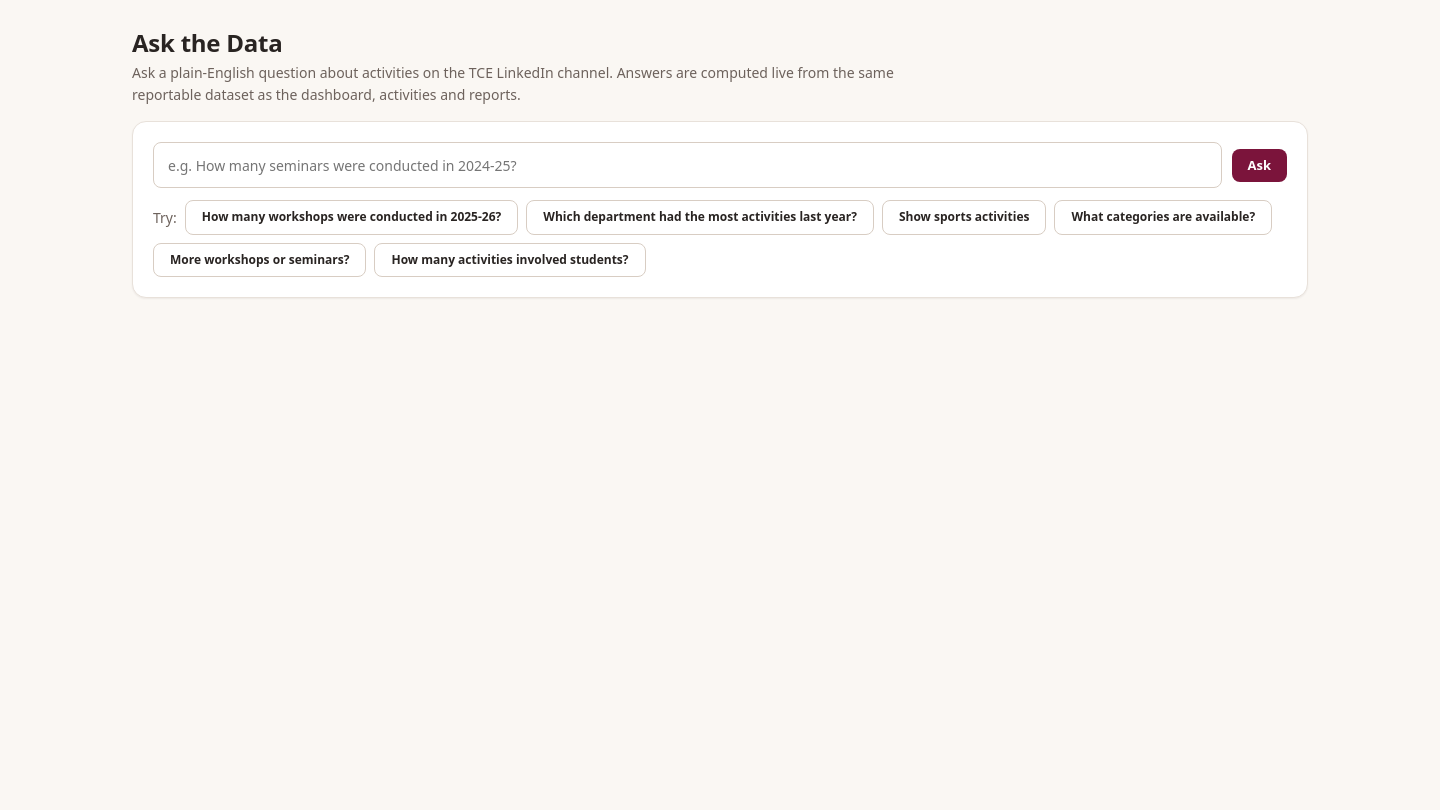
Test case: LinkedinPublicQuery › renders comparison charts and tables for compare questions
Type "More workshops or seminars?" into the field named "Your question" at (687, 165), box [153, 142, 1222, 188]
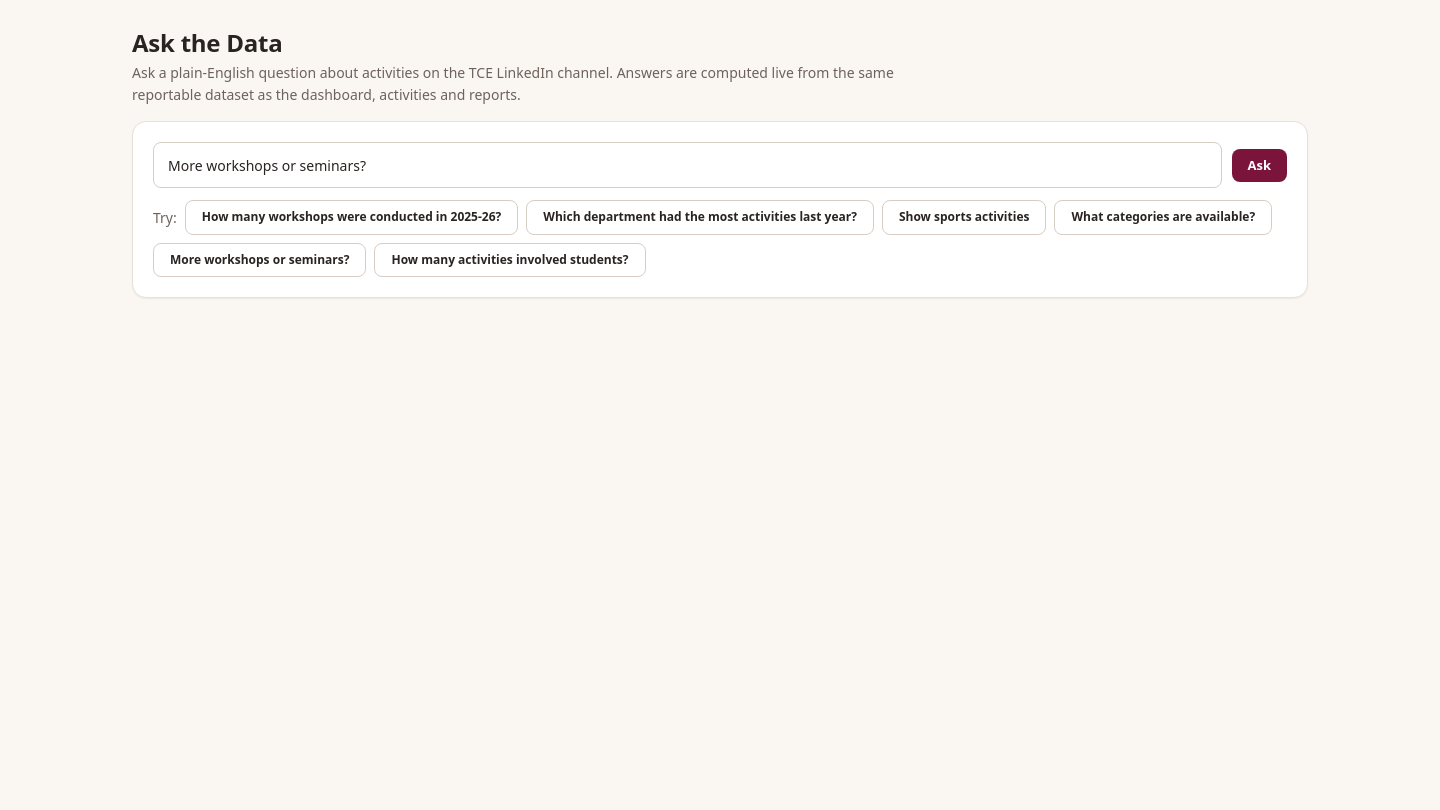
Click the button "Ask" at (1259, 165), box [1232, 149, 1287, 182]
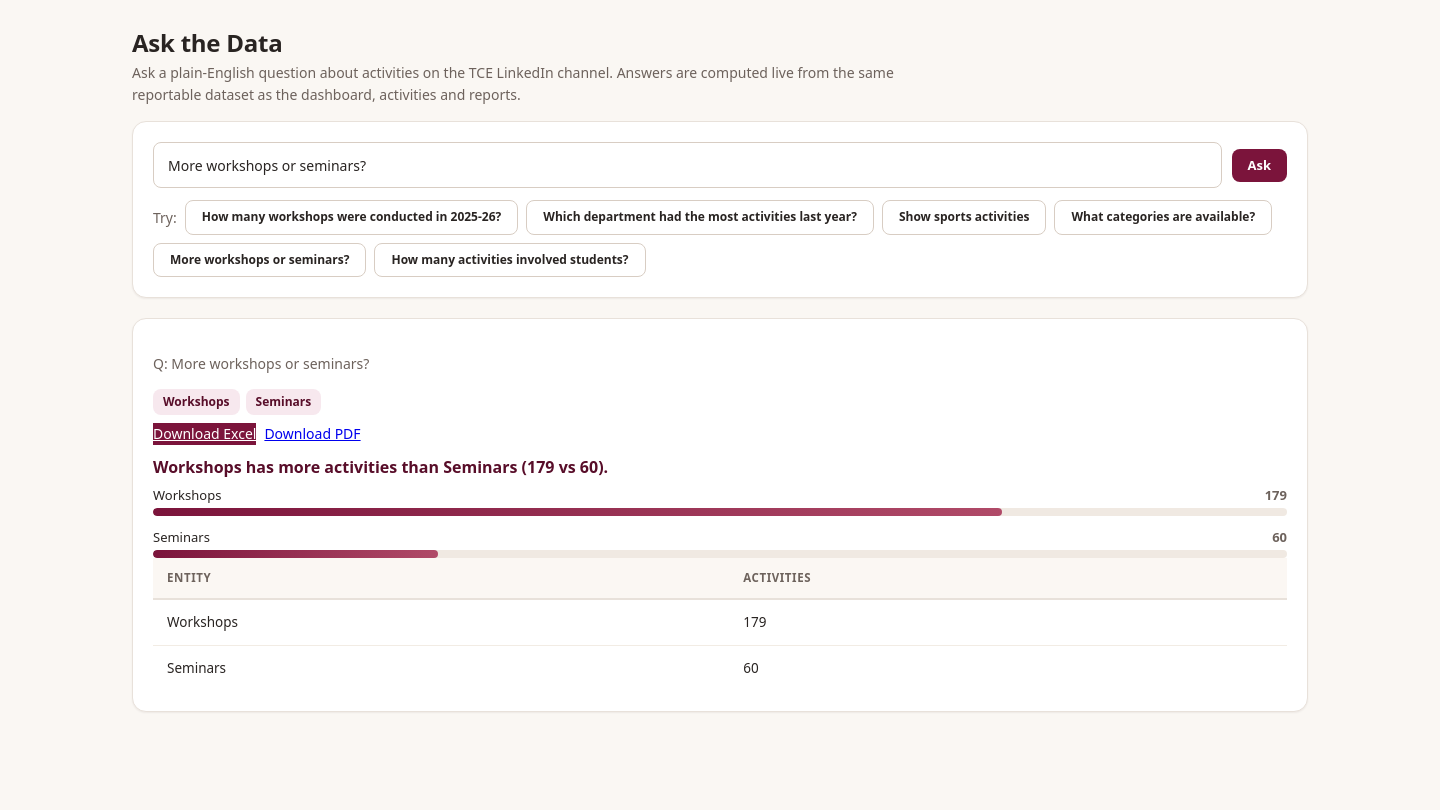
Check: the text "Workshops has more activities than Seminars (179 vs 60)." is shown, box [153, 456, 608, 478]
Check: the column heading "Entity" is shown, box [153, 558, 729, 599]
Check: the 1st text "Workshops" is shown, box [153, 389, 240, 415]
